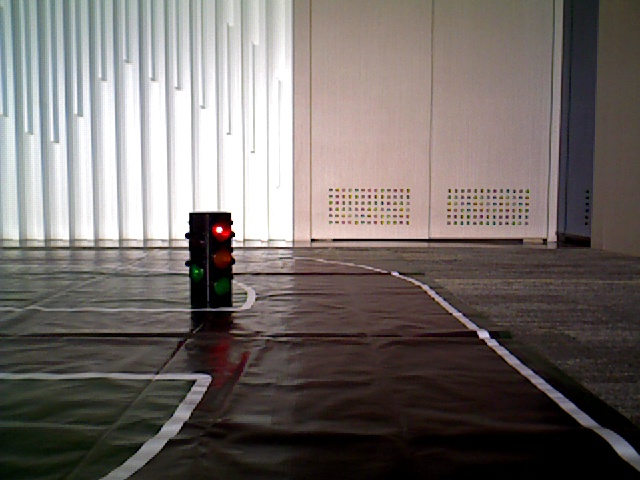red: (199, 215, 230, 292)
